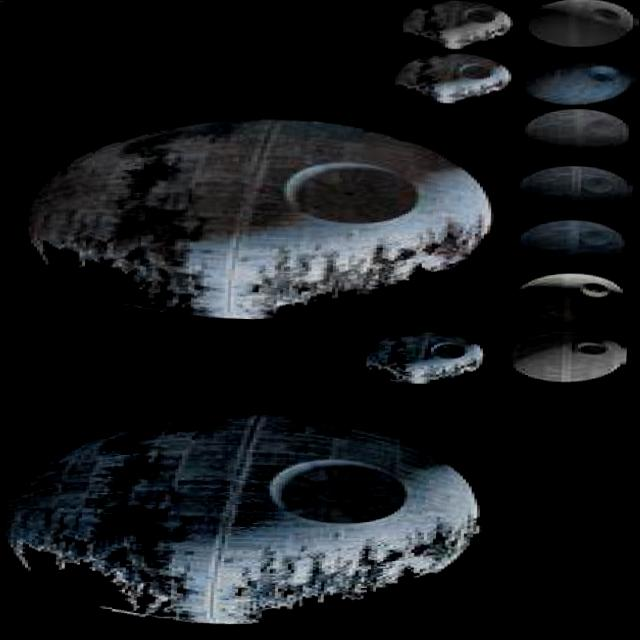deathStar: (2, 410, 491, 626), (24, 117, 494, 321), (509, 327, 630, 385), (519, 106, 637, 165), (362, 332, 489, 385), (506, 274, 632, 325), (512, 0, 640, 50), (508, 220, 628, 273), (515, 164, 635, 217), (389, 54, 512, 105), (516, 52, 636, 102), (395, 0, 512, 50)
